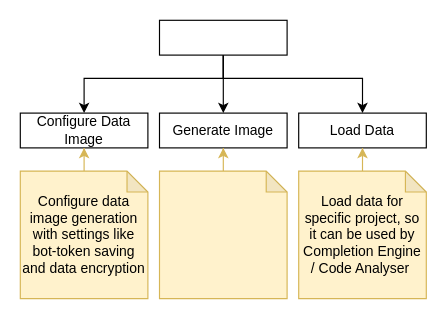
Some shapes in this 447 by 319 pixel diagram are drawn without their labels. The shapes that lost their labels are listed below. From the top down, each one's centre as x and y in pixels, then its label:
[222,37]: Commands
[222,234]: Connect to the discord api via a provided bot-token, and pull all required data
